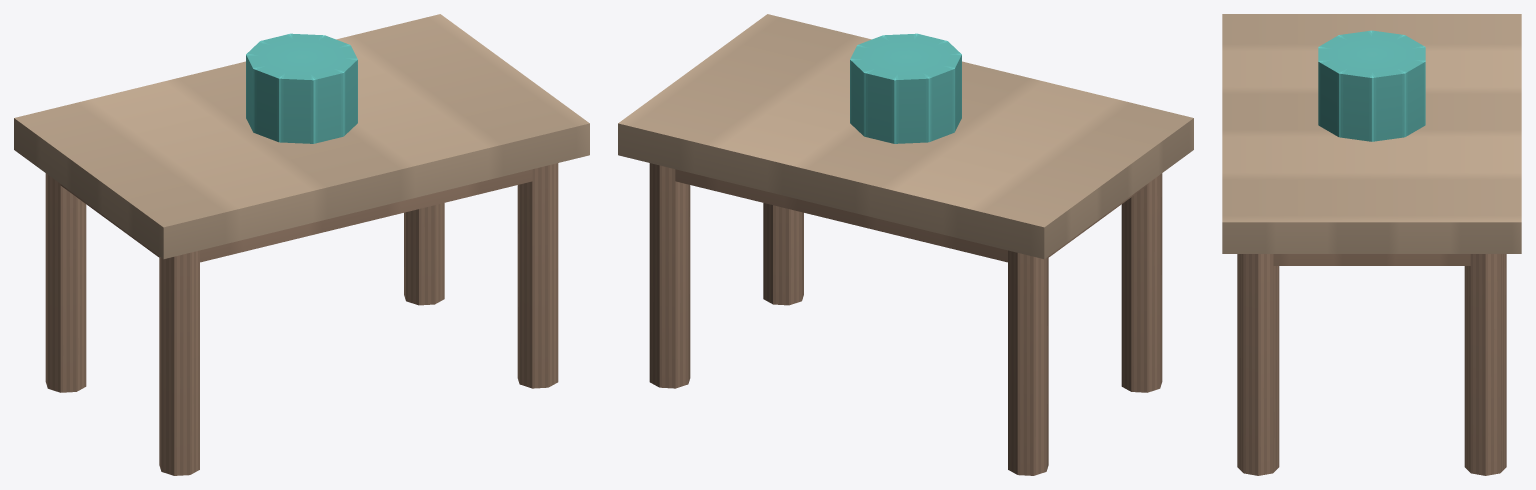
Rendered from cafe_table.glb.
The picture shows the model from 3 angles, left to right: view 1: azimuth 30°, elevation 25°; view 2: azimuth 150°, elevation 25°; view 3: azimuth 270°, elevation 25°; orthographic projection.
Visible parts, largest first — view 1: cafe_table; view 2: cafe_table; view 3: cafe_table.
Part boxes in pixels (x1,y1,x2,y2): cafe_table: (14, 14, 589, 475); cafe_table: (618, 14, 1193, 475); cafe_table: (1222, 14, 1521, 475).
Bounding box in the file's own units: 1.4 × 1.02 × 0.85.
1 material, 1 textured.
